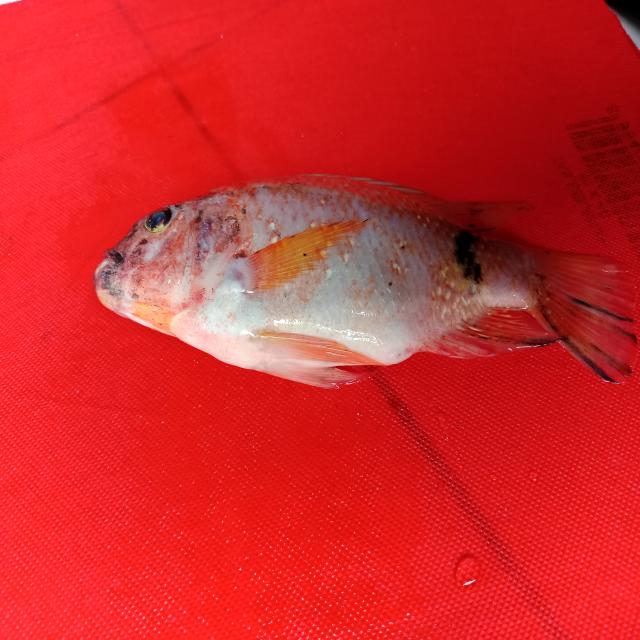ikan: (77, 147, 623, 410)
